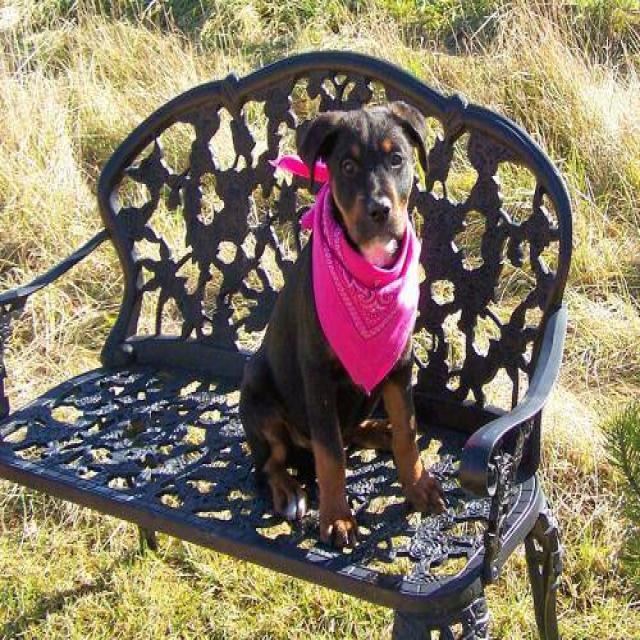dogs: (240, 86, 442, 588)
